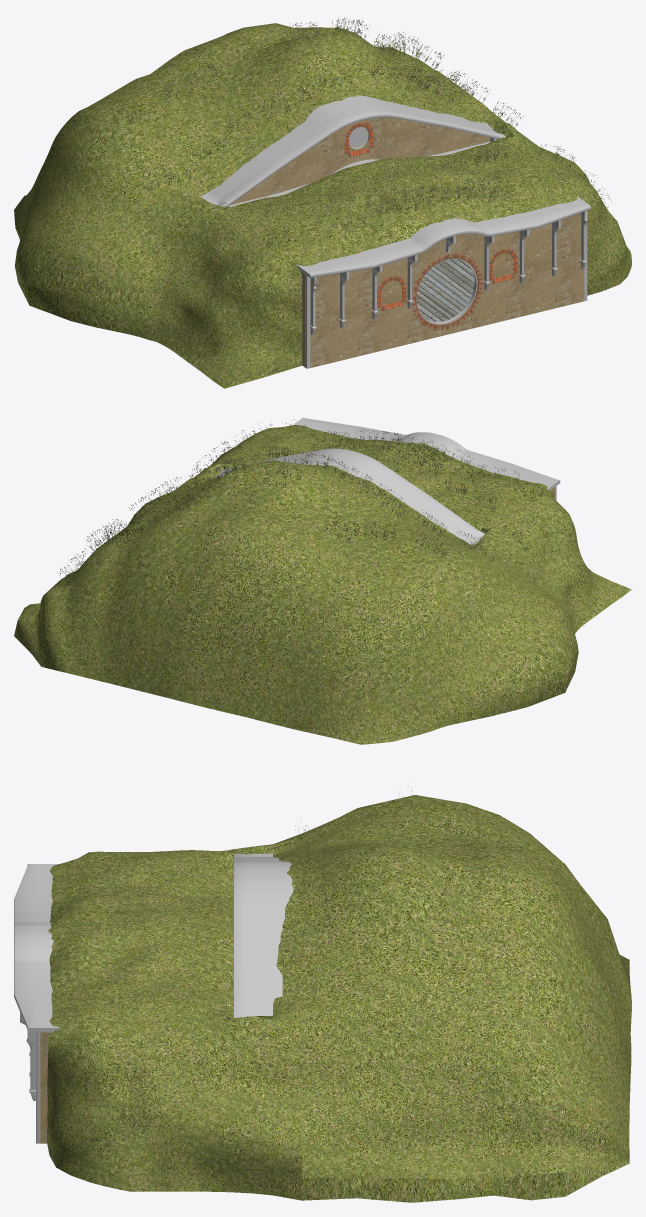
The model's file is house-1.fbx.
The picture shows the model from 3 angles, top to bottom: view 1: azimuth 30°, elevation 25°; view 2: azimuth 150°, elevation 25°; view 3: azimuth 270°, elevation 25°; orthographic projection. The views are drawn at different scales.
Parts seen in each view (by area): view 1: Mesh; view 2: Mesh; view 3: Mesh.
Part boxes in pixels (left/top/right/bottom): Mesh: left=14, top=16, right=631, bottom=388; Mesh: left=14, top=417, right=631, bottom=744; Mesh: left=14, top=791, right=631, bottom=1202.
Bounding box in the file's own units: 3866 × 1376 × 3268.
